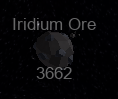Iridium: (10, 17, 96, 80)
